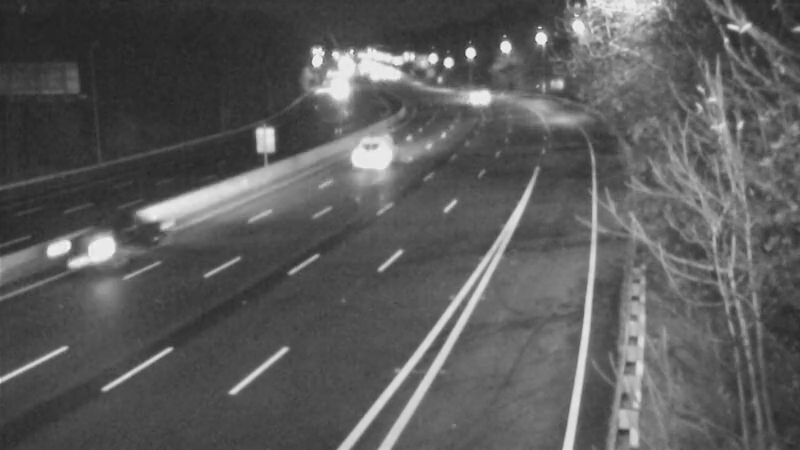vehicle: (38, 210, 118, 290), (452, 70, 502, 120), (351, 120, 401, 170)
